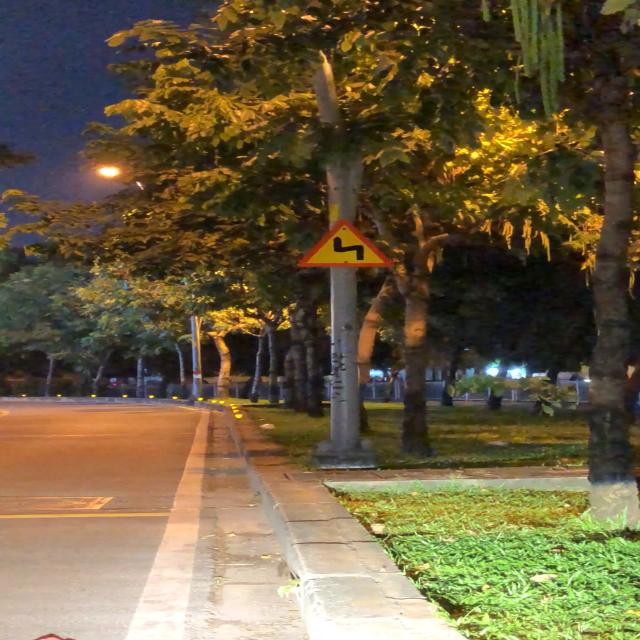Bien bao nhieu cho ngoat nguy hiem lien tiep: (291, 217, 393, 270)
